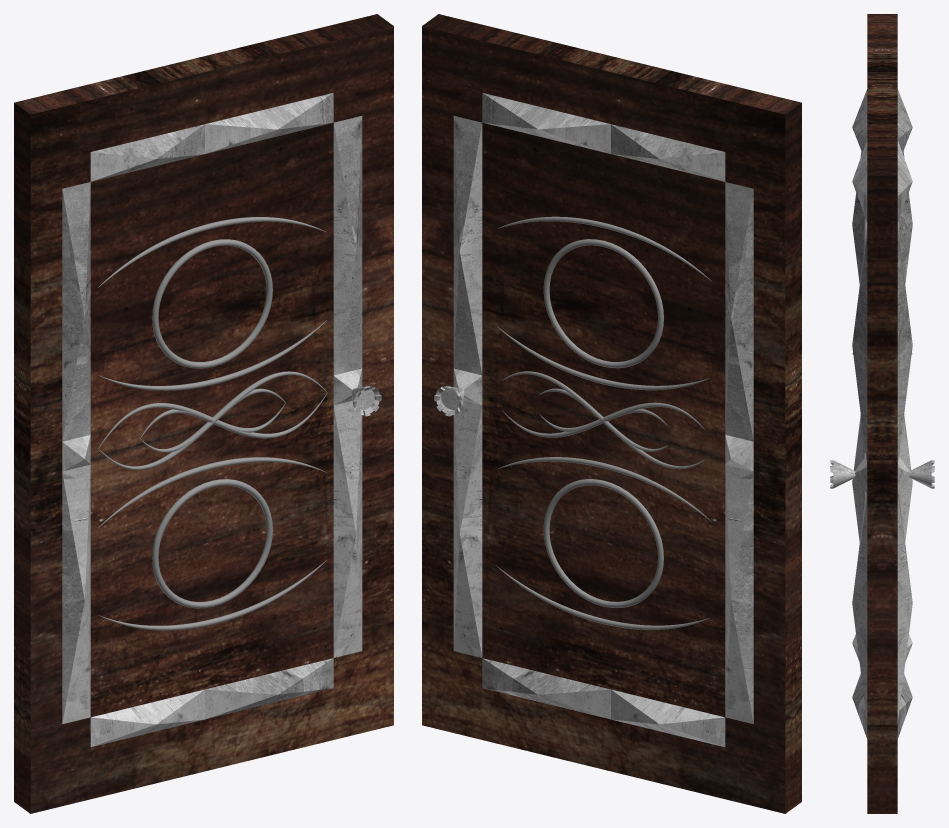
Rendered from door.glb.
3 renders of one model, left to right at view 1: azimuth 30°, elevation 25°; view 2: azimuth 150°, elevation 25°; view 3: azimuth 270°, elevation 25°, orthographic. The views are drawn at different scales.
Parts seen in each view (by area): view 1: Cube, Cube.001, BézierCircle.002, Cube.002; view 2: Cube, Cube.001, BézierCircle.001, Cube.002; view 3: Cube, Cube.001, Cube.002.
Part boxes in pixels (box(x1,y1,x2,y2)): Cube: box(14, 14, 393, 813); Cube.001: box(62, 93, 362, 747); BézierCircle.002: box(98, 217, 327, 630); Cube.002: box(351, 386, 381, 416); Cube: box(422, 14, 801, 813); Cube.001: box(453, 93, 753, 747); BézierCircle.001: box(495, 216, 711, 629); Cube.002: box(434, 386, 464, 416); Cube: box(867, 14, 897, 813); Cube.001: box(852, 89, 912, 738); Cube.002: box(830, 460, 934, 488).
Bounding box in the file's own units: 3.81 × 7 × 1.04.
Materials: 3 (2 with a texture image).
